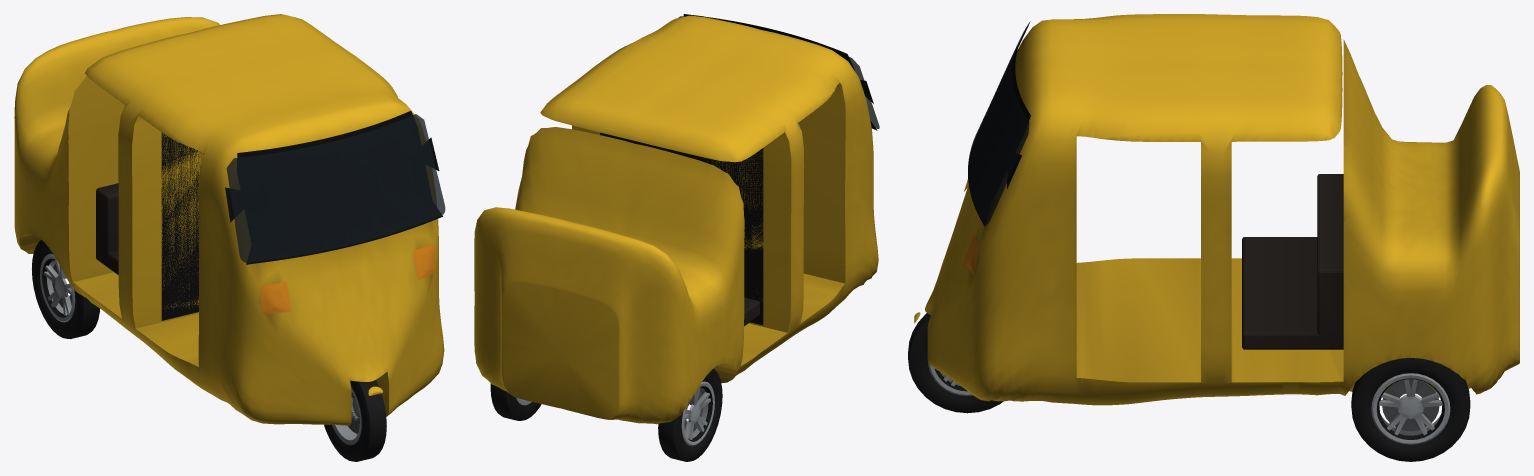
File: auto_rickshaw.glb
3 views of the same model, side by side, from view 1: azimuth 30°, elevation 25°; view 2: azimuth 150°, elevation 25°; view 3: azimuth 270°, elevation 25° (orthographic). The views are drawn at different scales.
Visible parts, largest first — view 1: body, wheel_RR, wheel_F; view 2: body, wheel_RR, wheel_RL; view 3: body, wheel_RL, wheel_F.
Part boxes in pixels (x1=…): body: x1=14, y1=14, x2=445, y2=425; wheel_RR: x1=32, y1=240, x2=99, y2=339; wheel_F: x1=324, y1=380, x2=386, y2=461; body: x1=474, y1=14, x2=879, y2=424; wheel_RR: x1=658, y1=368, x2=722, y2=461; wheel_RL: x1=490, y1=383, x2=541, y2=420; body: x1=914, y1=14, x2=1519, y2=405; wheel_RL: x1=1351, y1=358, x2=1470, y2=461; wheel_F: x1=908, y1=313, x2=1003, y2=413.
Bounding box in the file's own units: 1.31 × 1.68 × 2.65.
